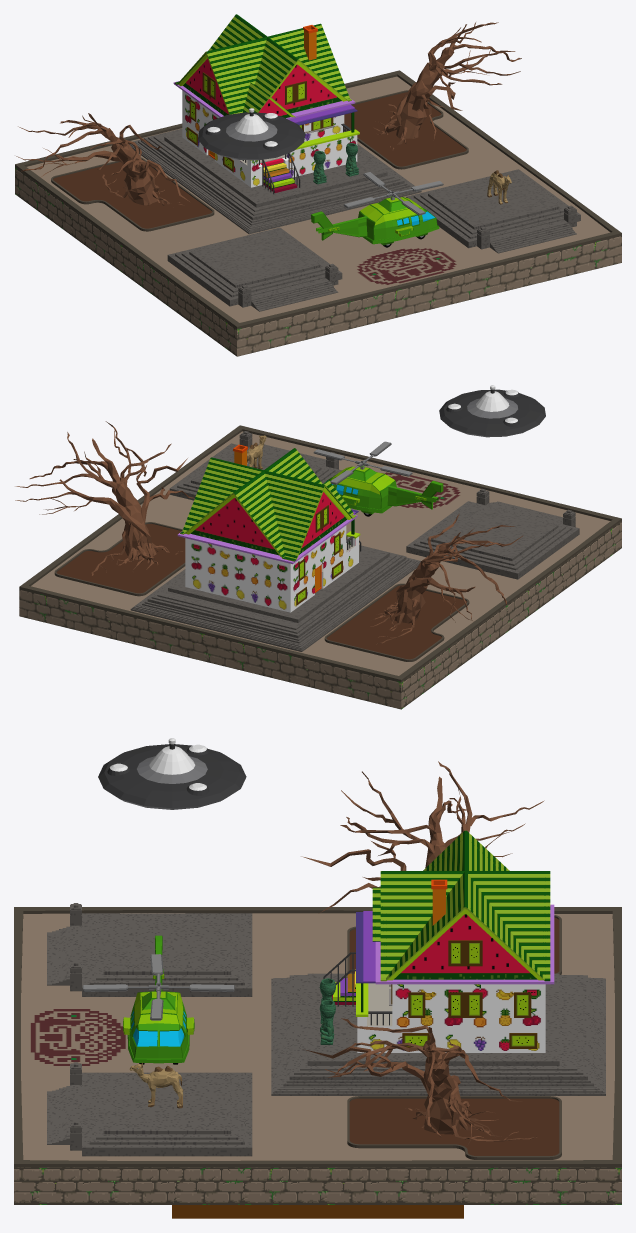
The picture shows the model from 3 angles, top to bottom: view 1: azimuth 30°, elevation 25°; view 2: azimuth 150°, elevation 25°; view 3: azimuth 270°, elevation 25°; orthographic projection. The views are drawn at different scales.
Parts seen in each view (by area): view 1: Cube.011, Cube.1063, VEHICLES_HELICOPTER, OBJRANDOM_UFO, ANIMAL_CAMELLO; view 2: Cube.011, Cube.1063, OBJRANDOM_UFO, VEHICLES_HELICOPTER; view 3: Cube.011, Cube.1063, OBJRANDOM_UFO, VEHICLES_HELICOPTER, UNDERGROUND_ART_PIECE_VAN_GOGH, ANIMAL_CAMELLO.
Part boxes in pixels (<box>): Cube.011: <box>15,22,621,356</box>; Cube.1063: <box>173,14,359,194</box>; VEHICLES_HELICOPTER: <box>311,172,443,247</box>; OBJRANDOM_UFO: <box>198,108,305,160</box>; ANIMAL_CAMELLO: <box>487,170,511,204</box>; Cube.011: <box>15,421,621,709</box>; Cube.1063: <box>177,444,361,612</box>; OBJRANDOM_UFO: <box>439,385,545,437</box>; VEHICLES_HELICOPTER: <box>313,441,443,516</box>; Cube.011: <box>14,761,621,1204</box>; Cube.1063: <box>323,830,554,1052</box>; OBJRANDOM_UFO: <box>98,738,246,809</box>; VEHICLES_HELICOPTER: <box>82,935,234,1064</box>; UNDERGROUND_ART_PIECE_VAN_GOGH: <box>172,1205,463,1218</box>; ANIMAL_CAMELLO: <box>129,1062,183,1108</box>.
Bounding box in the file's own units: 5099 × 2074 × 4000.
Materials: 34 (8 with a texture image).
